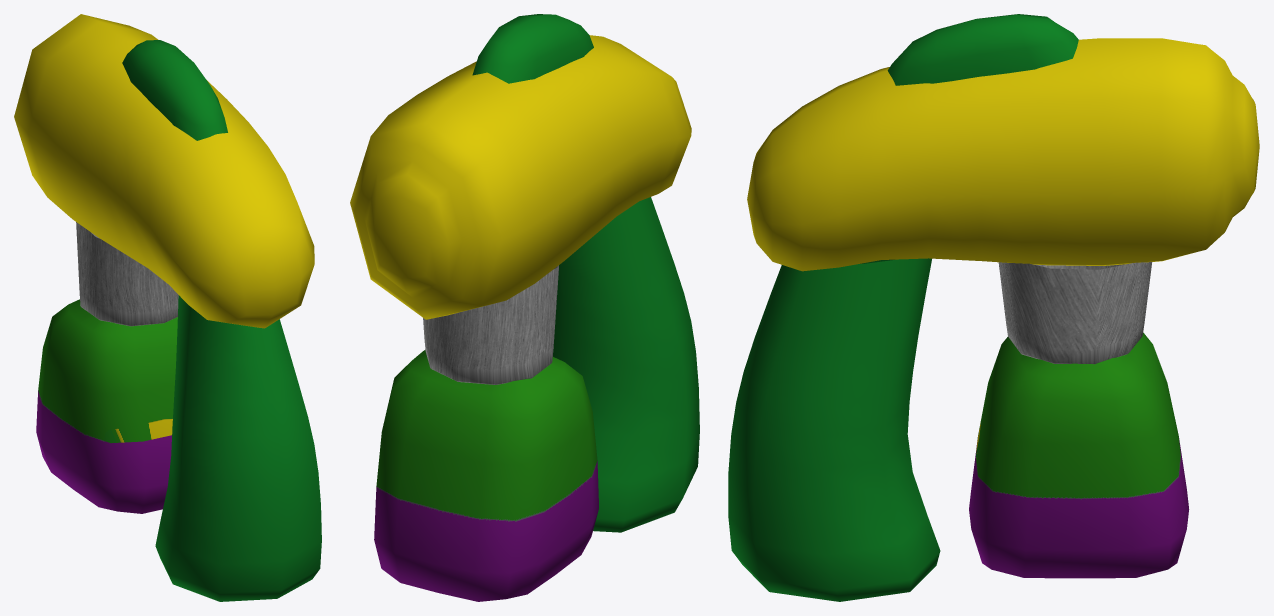
The model's file is Pistola.fbx.
3 renders of one model, left to right at view 1: azimuth 30°, elevation 25°; view 2: azimuth 150°, elevation 25°; view 3: azimuth 270°, elevation 25°, orthographic. The views are drawn at different scales.
Visible parts, largest first — view 1: Cube; view 2: Cube; view 3: Cube.
Boxes of the visible parts, left/top/right/bottom form: Cube: left=14, top=14, right=321, bottom=601; Cube: left=350, top=14, right=699, bottom=601; Cube: left=728, top=14, right=1259, bottom=601.
Size of the model in its own units: 93.53 by 286 by 249.
Materials: 1 (1 with a texture image).
